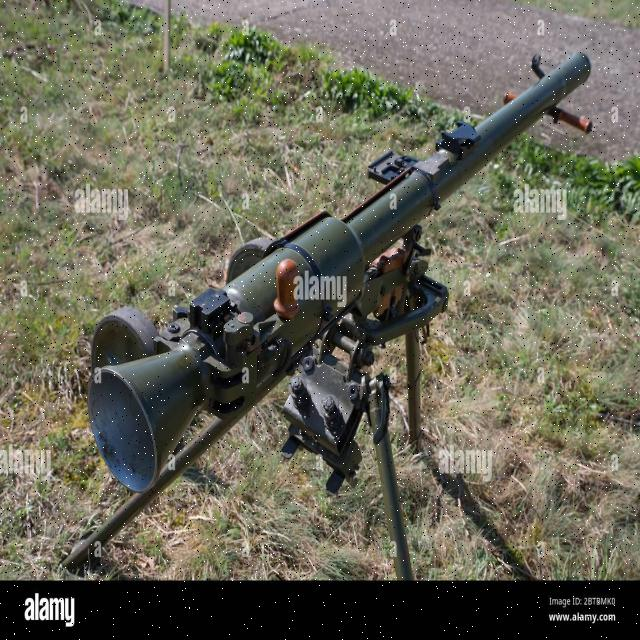bazooka: (81, 44, 603, 520)
